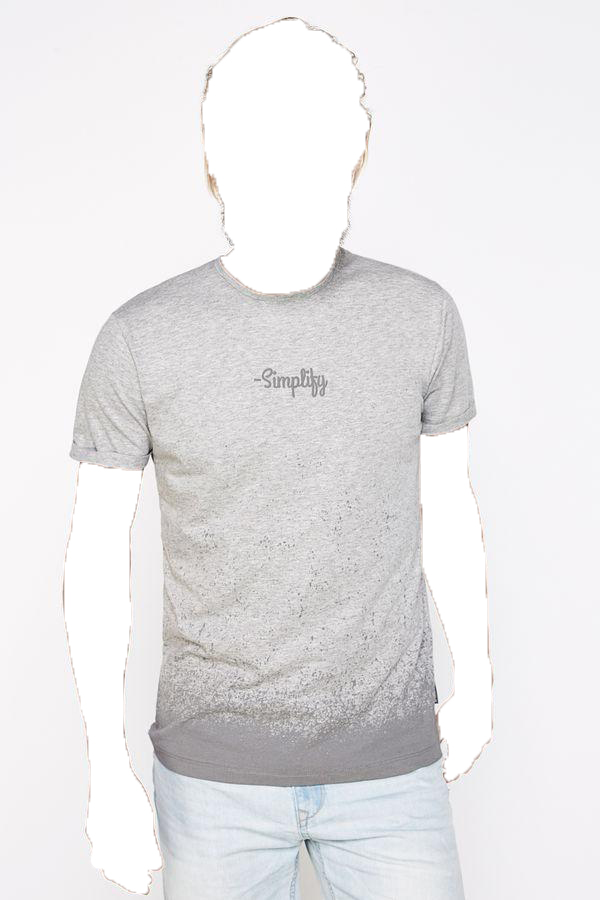teeshirt: (53, 249, 490, 789)
